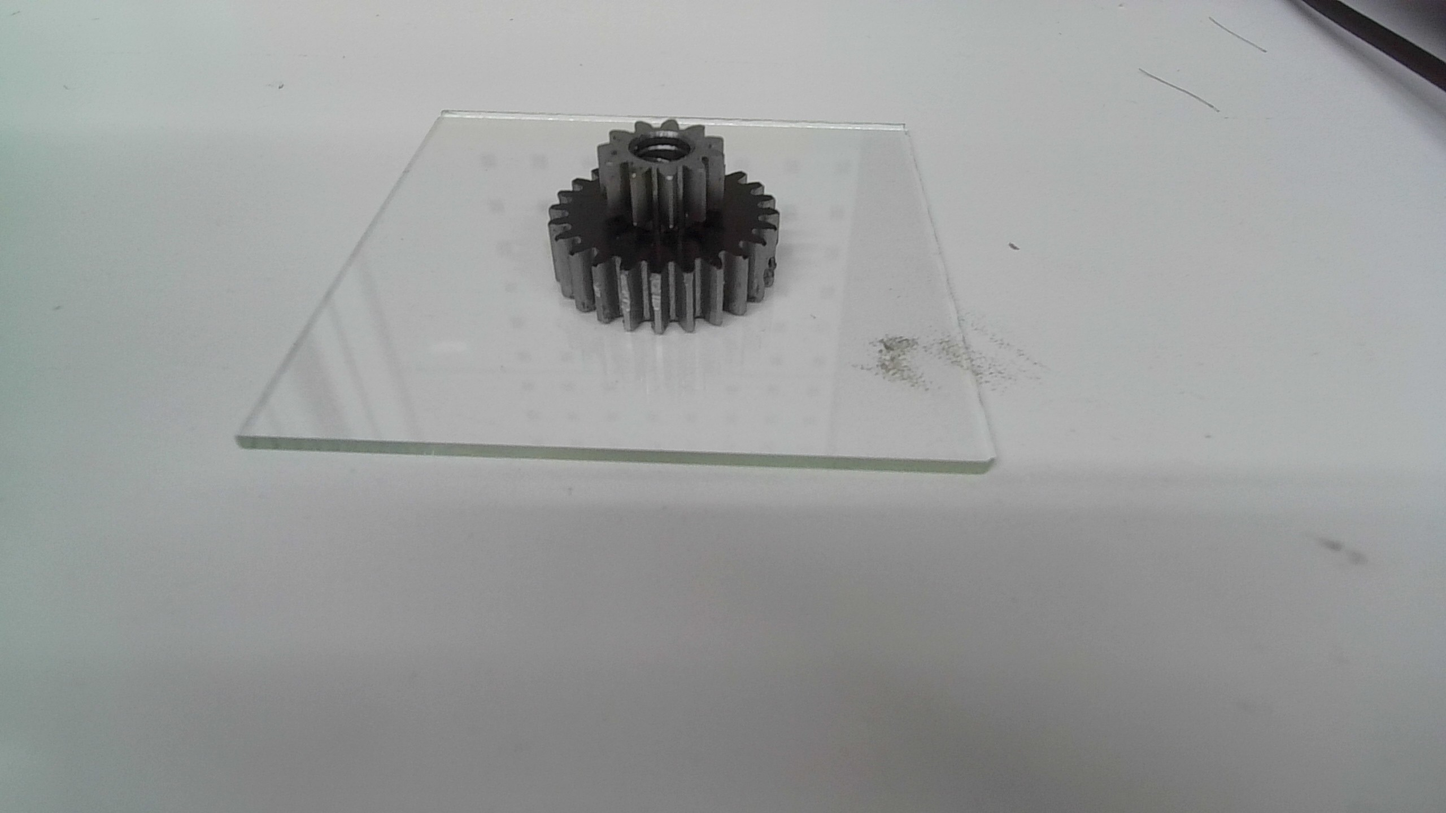gear: (544, 110, 785, 336)
